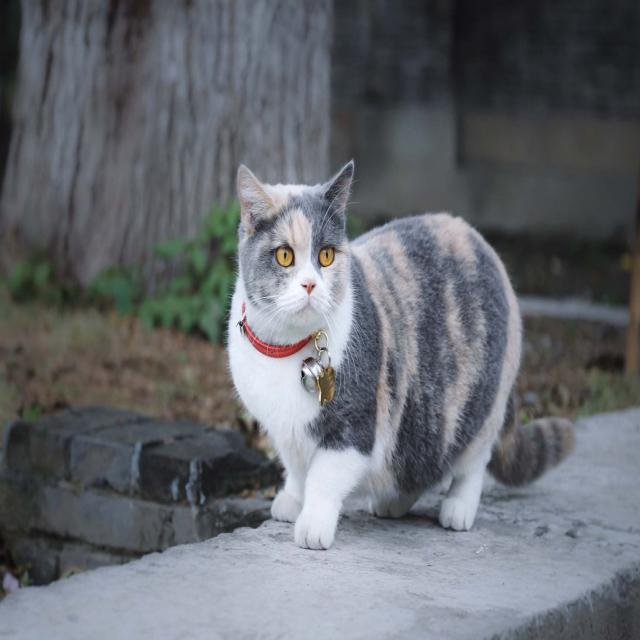Munchkin: (224, 153, 577, 555)
